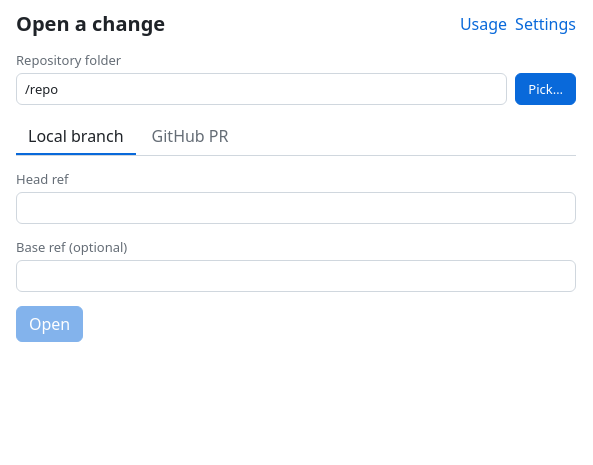
screens › prefills the repo, opens a target and shows counts
Type "feature" into the field labelled "Head ref" at (296, 208), box [16,192,576,224]
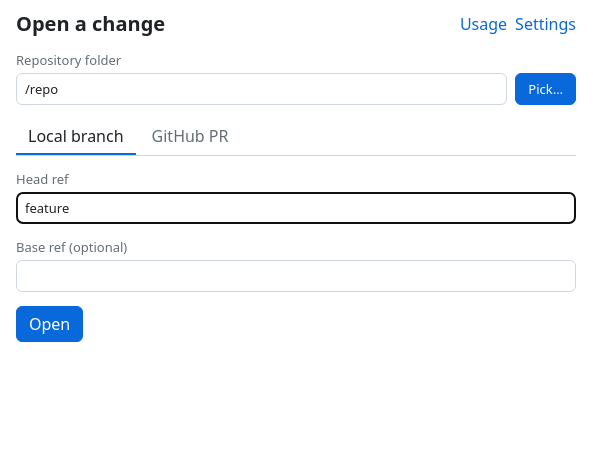
Click the button "Open" at (50, 324), box [16,306,83,342]
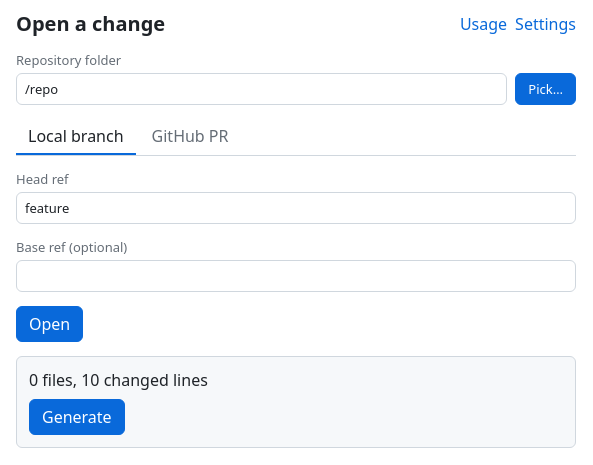
Result: the text "0 files, 10 changed lines" is shown at [29,369,208,391]
